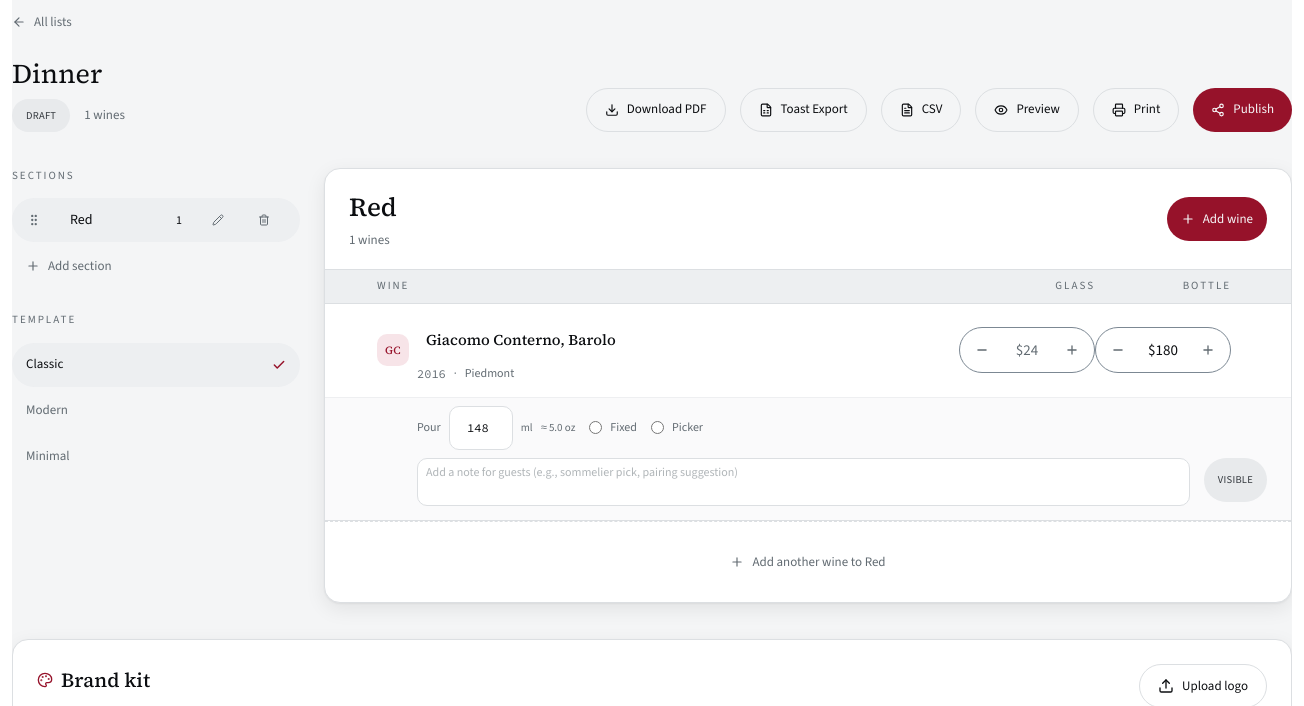
Test: wine-list item write failures › reports a network failure rather than swallowing the rejection
Step 1. Click the button named "Increase glass price for Barolo" → x=1072, y=350, box [1050,328,1094,372]
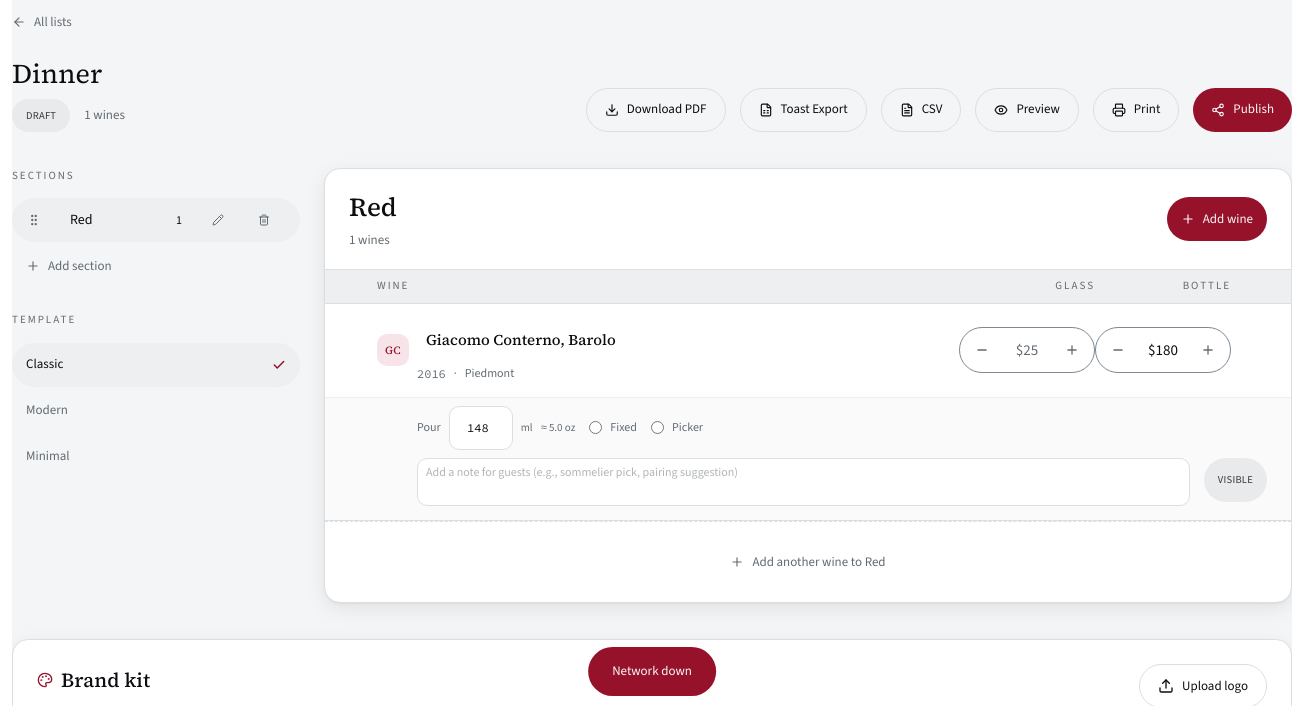
Expected: the text "Network down" is shown, [588,647,716,696]
